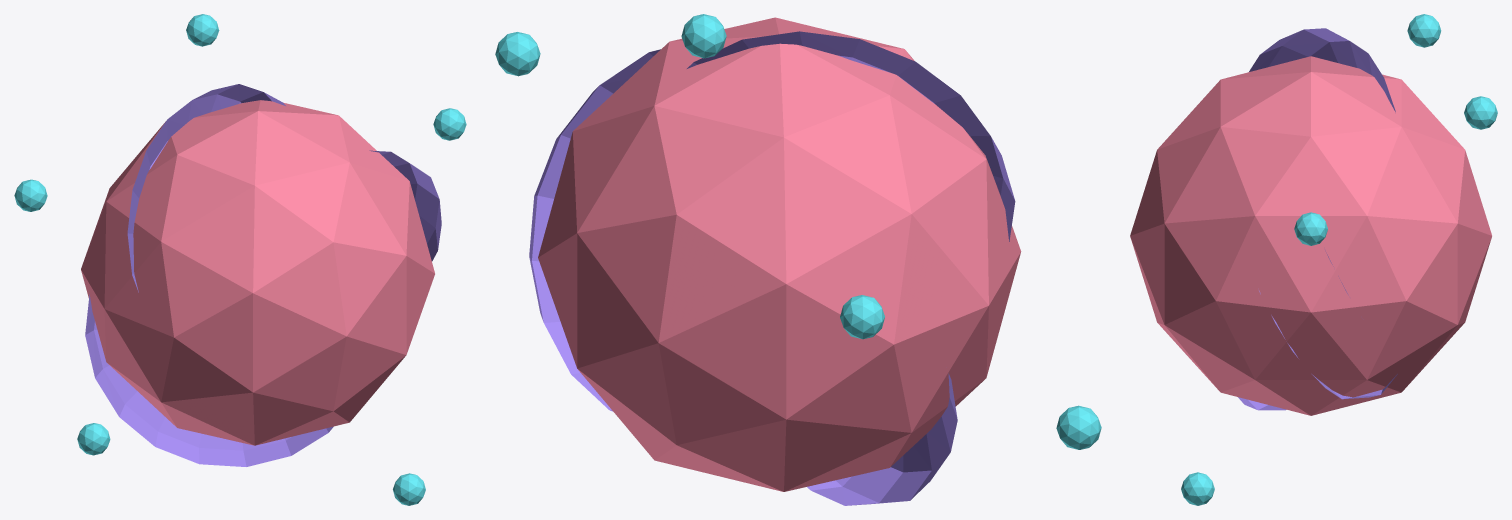
The picture shows the model from 3 angles, left to right: view 1: azimuth 30°, elevation 25°; view 2: azimuth 150°, elevation 25°; view 3: azimuth 270°, elevation 25°; orthographic projection. The views are drawn at different scales.
Parts seen in each view (by area): view 1: Icosphere, TorusKnot, Sphere_0, Sphere_1, Sphere_2, Sphere_4, Sphere_3; view 2: Icosphere, TorusKnot, Sphere_1, Sphere_0, Sphere_2, Sphere_4; view 3: Icosphere, TorusKnot, Sphere_4, Sphere_3, Sphere_2, Sphere_0.
Part boxes in pixels (x1,y1,x2,y2): Icosphere: (81, 100, 434, 445); TorusKnot: (85, 84, 441, 466); Sphere_0: (433, 108, 466, 140); Sphere_1: (77, 423, 110, 455); Sphere_2: (186, 14, 219, 46); Sphere_4: (14, 179, 47, 211); Sphere_3: (393, 473, 425, 505); Icosphere: (538, 17, 1021, 491); TorusKnot: (529, 31, 1015, 505); Sphere_1: (1056, 405, 1101, 449); Sphere_0: (495, 32, 540, 76); Sphere_2: (681, 14, 726, 58); Sphere_4: (840, 295, 884, 339); Icosphere: (1130, 56, 1491, 415); TorusKnot: (1238, 28, 1397, 410); Sphere_4: (1464, 96, 1497, 129); Sphere_3: (1181, 472, 1214, 505); Sphere_2: (1407, 14, 1441, 47); Sphere_0: (1294, 212, 1327, 245).
Bounding box in the file's own units: 4.3 × 4.3 × 3.25.
